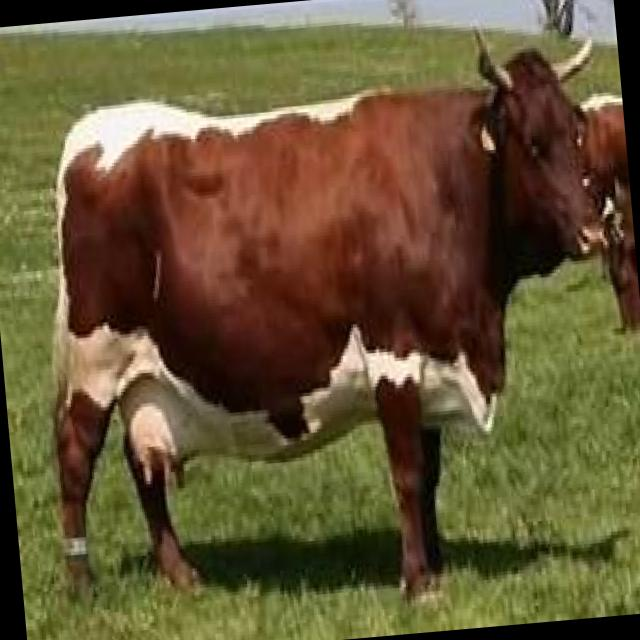animal: (17, 14, 640, 633)
